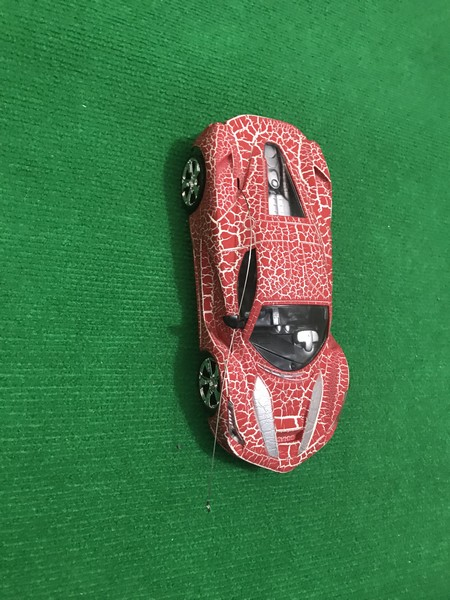RC: (178, 113, 356, 478)
